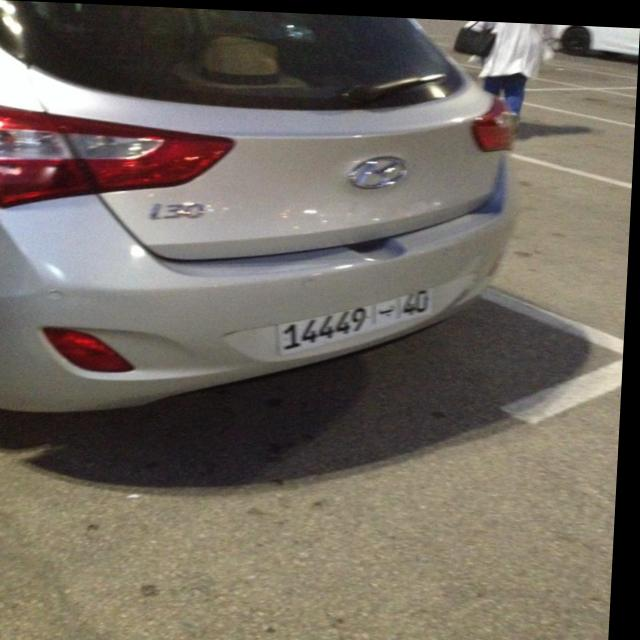License-Plate: (281, 286, 435, 352)
